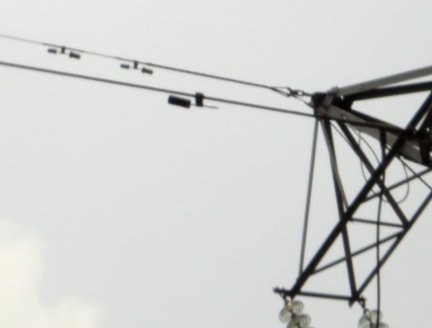damper: (45, 44, 82, 60), (119, 59, 154, 74)
damper_defect: (165, 90, 219, 114)
